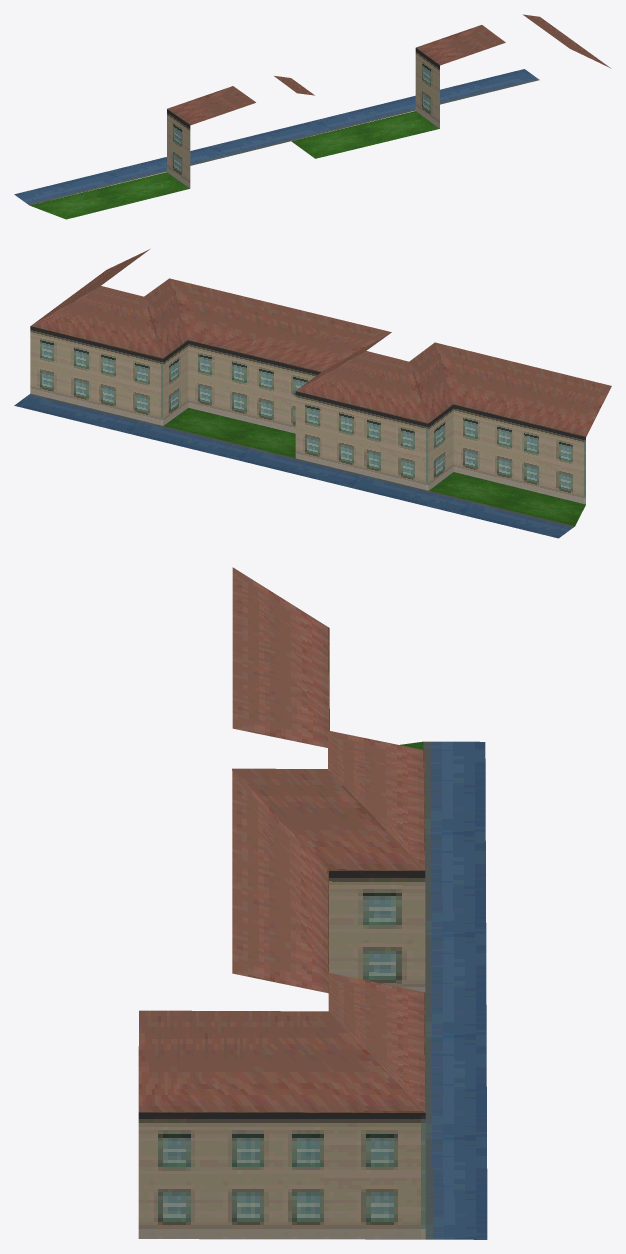
Rendered from AApart01.glb.
The picture shows the model from 3 angles, top to bottom: view 1: azimuth 30°, elevation 25°; view 2: azimuth 150°, elevation 25°; view 3: azimuth 270°, elevation 25°; orthographic projection. The views are drawn at different scales.
Parts seen in each view (by area): view 1: AApart01; view 2: AApart01; view 3: AApart01.
Boxes of the visible parts, left/top/right/bottom form: AApart01: left=14, top=14, right=611, bottom=219; AApart01: left=14, top=249, right=611, bottom=538; AApart01: left=138, top=567, right=487, bottom=1239.
Bounding box in the file's own units: 10603 × 1879 × 3133.
3 materials, 3 textured.
